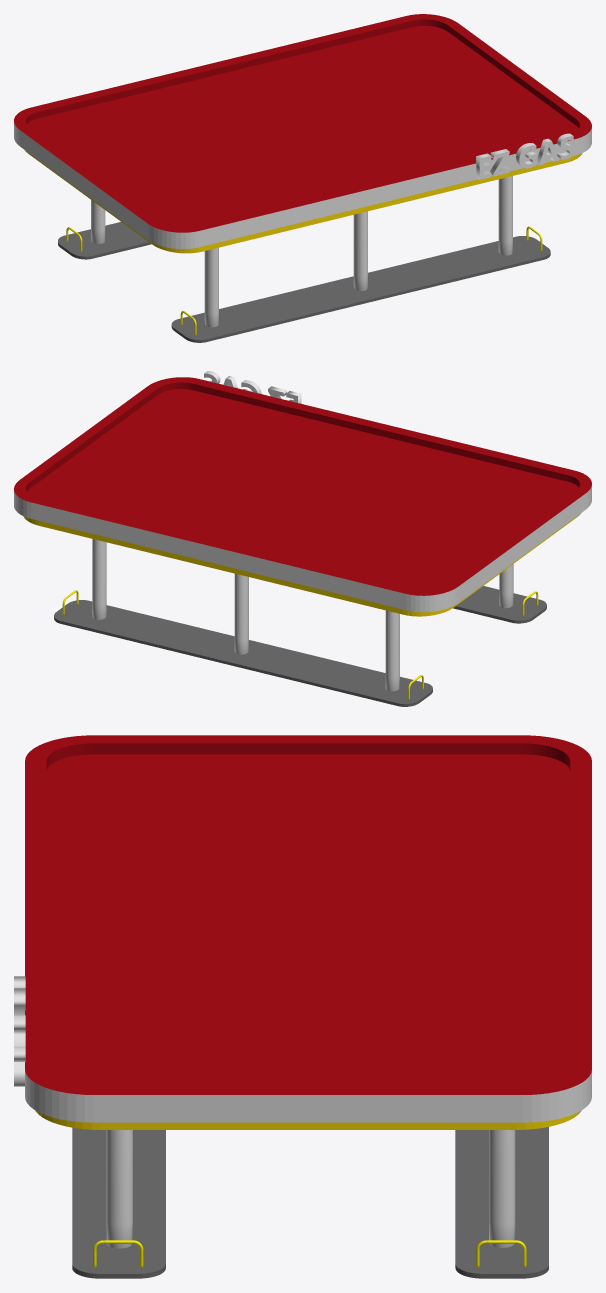
The model's file is Gas Station.fbx.
3 renders of one model, top to bottom at view 1: azimuth 30°, elevation 25°; view 2: azimuth 150°, elevation 25°; view 3: azimuth 270°, elevation 25°, orthographic. The views are drawn at different scales.
Parts seen in each view (by area): view 1: Roof.001, Floor.002, Mini Roof, Pillars, Floor.001, Main Text; view 2: Roof.001, Floor.001, Mini Roof, Pillars, Floor.002, Main Text; view 3: Roof.001, Mini Roof, Floor.001, Floor.002, Pillars, Main Text, Bar.
Boxes of the visible parts, bbox=[...] form: Roof.001: bbox=[14, 14, 591, 253]; Floor.002: bbox=[171, 236, 550, 342]; Mini Roof: bbox=[14, 122, 591, 248]; Pillars: bbox=[91, 176, 512, 327]; Floor.001: bbox=[58, 222, 151, 259]; Main Text: bbox=[476, 133, 574, 179]; Roof.001: bbox=[14, 377, 591, 616]; Floor.001: bbox=[54, 600, 432, 706]; Mini Roof: bbox=[14, 485, 591, 612]; Pillars: bbox=[92, 539, 513, 691]; Floor.002: bbox=[453, 586, 546, 623]; Main Text: bbox=[204, 371, 301, 403]; Roof.001: bbox=[25, 735, 591, 1129]; Mini Roof: bbox=[25, 1070, 591, 1122]; Floor.001: bbox=[455, 1127, 548, 1278]; Floor.002: bbox=[72, 1127, 165, 1278]; Pillars: bbox=[106, 1130, 515, 1248]; Main Text: bbox=[14, 976, 25, 1086]; Bar: bbox=[93, 1240, 526, 1267].
Size of the model in its own units: 2323 by 694 by 1577.
